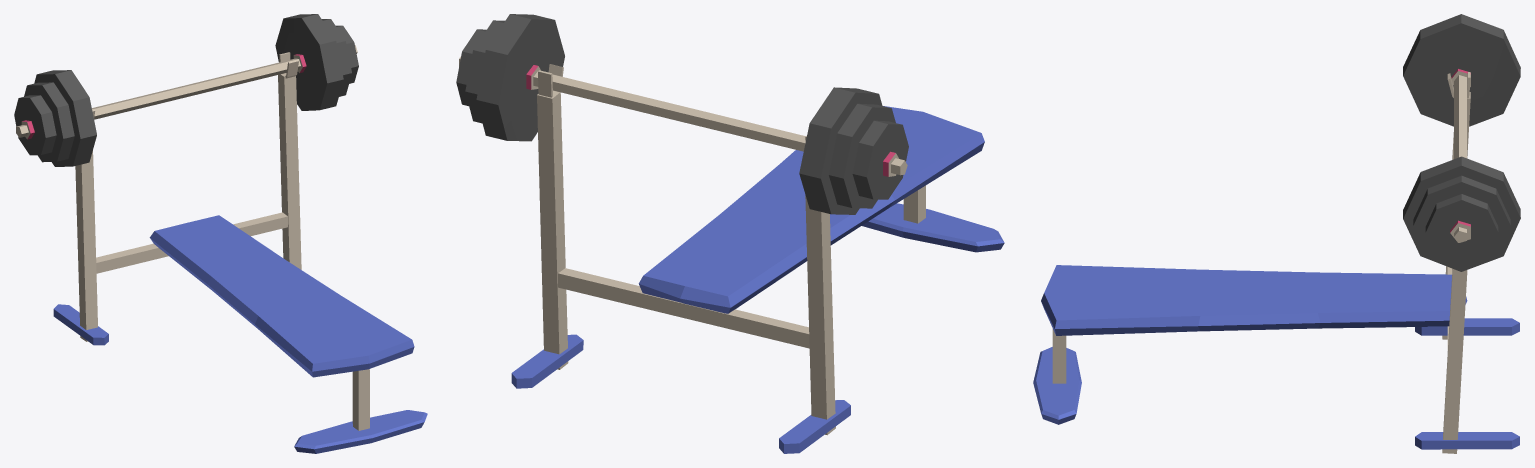
File: Gym_Barbell_231109.glb
The picture shows the model from 3 angles, left to right: view 1: azimuth 30°, elevation 25°; view 2: azimuth 150°, elevation 25°; view 3: azimuth 270°, elevation 25°; orthographic projection. The views are drawn at different scales.
Visible parts, largest first — view 1: Gym_Barbell; view 2: Gym_Barbell; view 3: Gym_Barbell.
Boxes of the visible parts, x1,y1,x2,y2 form: Gym_Barbell: [14, 14, 427, 453]; Gym_Barbell: [456, 14, 1004, 453]; Gym_Barbell: [1033, 14, 1520, 453].
Size of the model in its own units: 1.92 by 1.46 by 2.11.
1 material, 1 textured.
